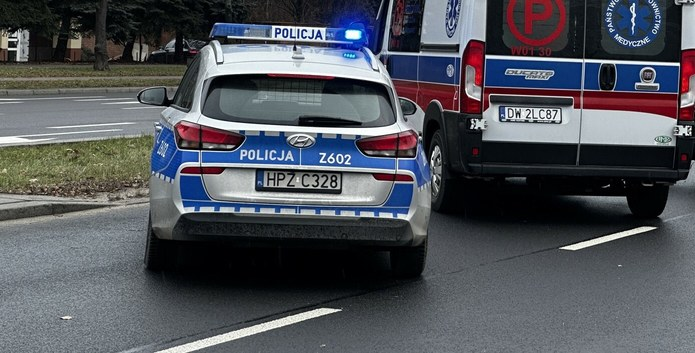number_plate: (255, 170, 340, 192), (499, 107, 562, 122)
